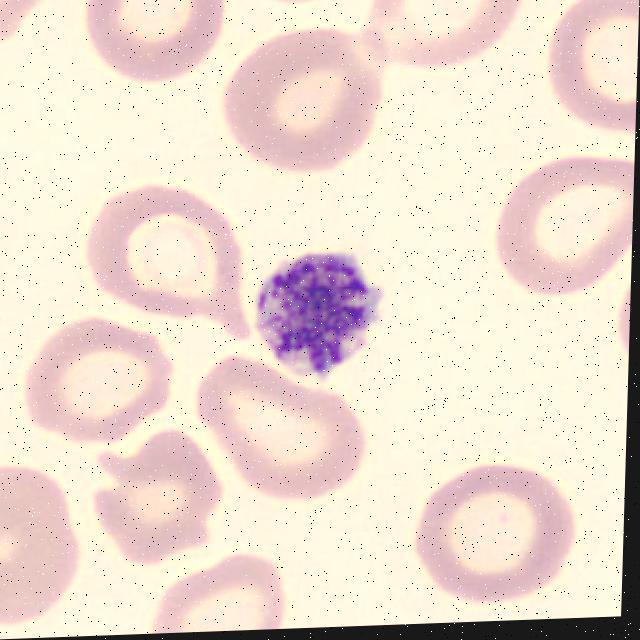platelets: (251, 238, 396, 384)
rbc: (186, 351, 388, 506), (81, 182, 263, 353), (412, 453, 586, 610), (225, 22, 393, 178), (20, 303, 186, 447), (495, 147, 635, 294), (85, 425, 226, 567), (0, 460, 87, 629), (540, 0, 640, 140), (81, 0, 236, 88), (144, 545, 295, 634), (355, 0, 532, 72), (0, 0, 49, 54), (242, 0, 356, 16), (617, 262, 632, 367)
